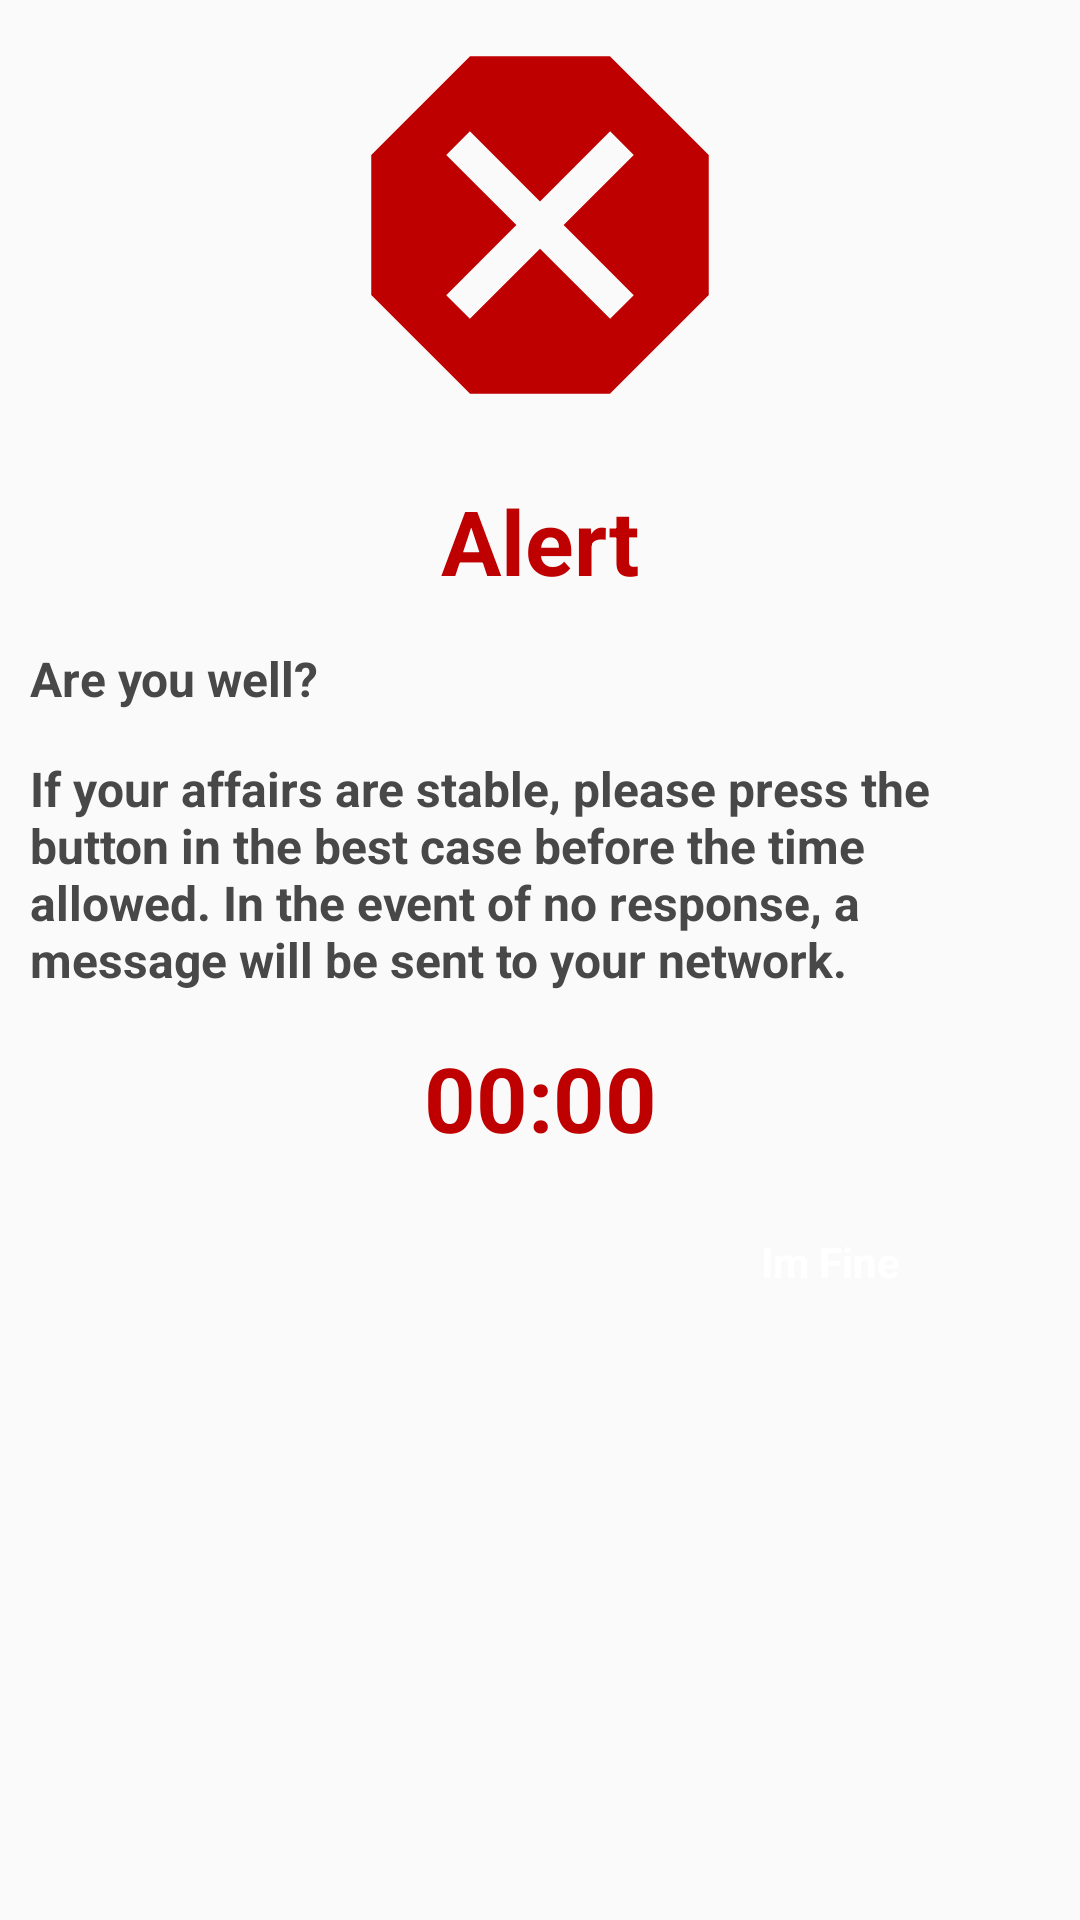

Named icons in this screenshot (1080px x 1920px) and their bounding boxes, (x1, y1, x2, y2):
dangerous: (371, 56, 709, 394)
